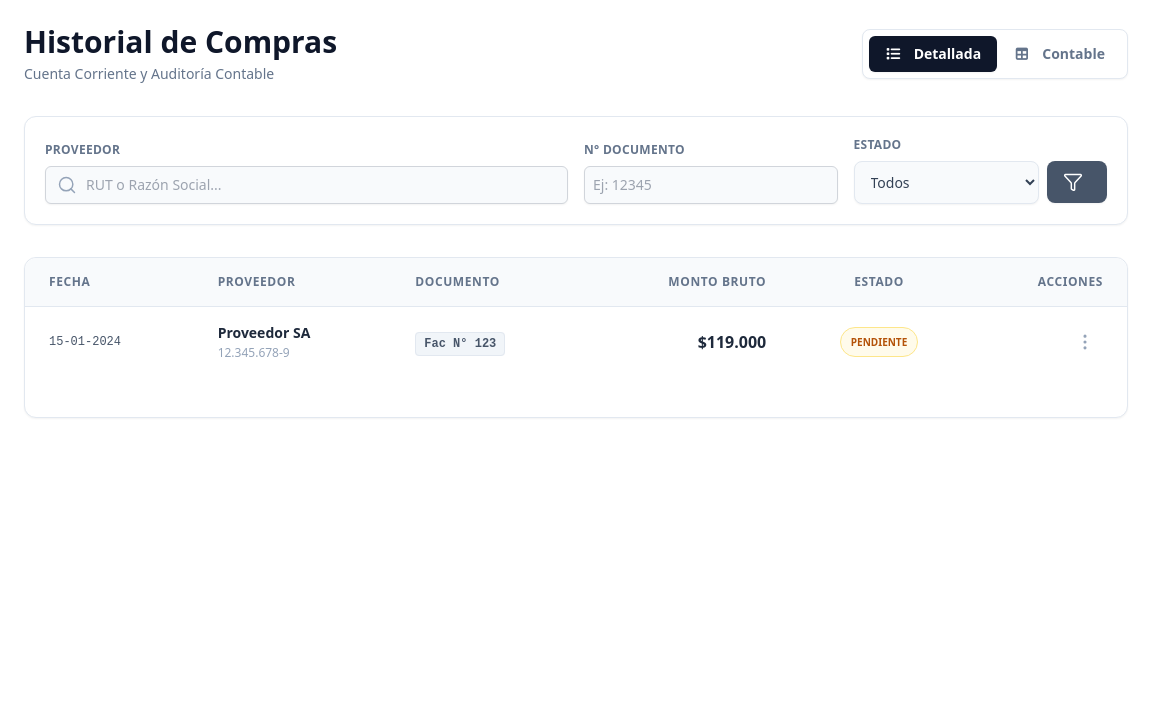
Scenario: HistorialFacturas (vista) › menú de opciones (3 puntos) › cierra el menú al volver a hacer click en el botón "Opciones"
What coordinates should you click on to do the following:
click the button titled "Opciones"
I would click on:
 (1085, 342)
Its box is x1=1067 y1=324 x2=1103 y2=360.
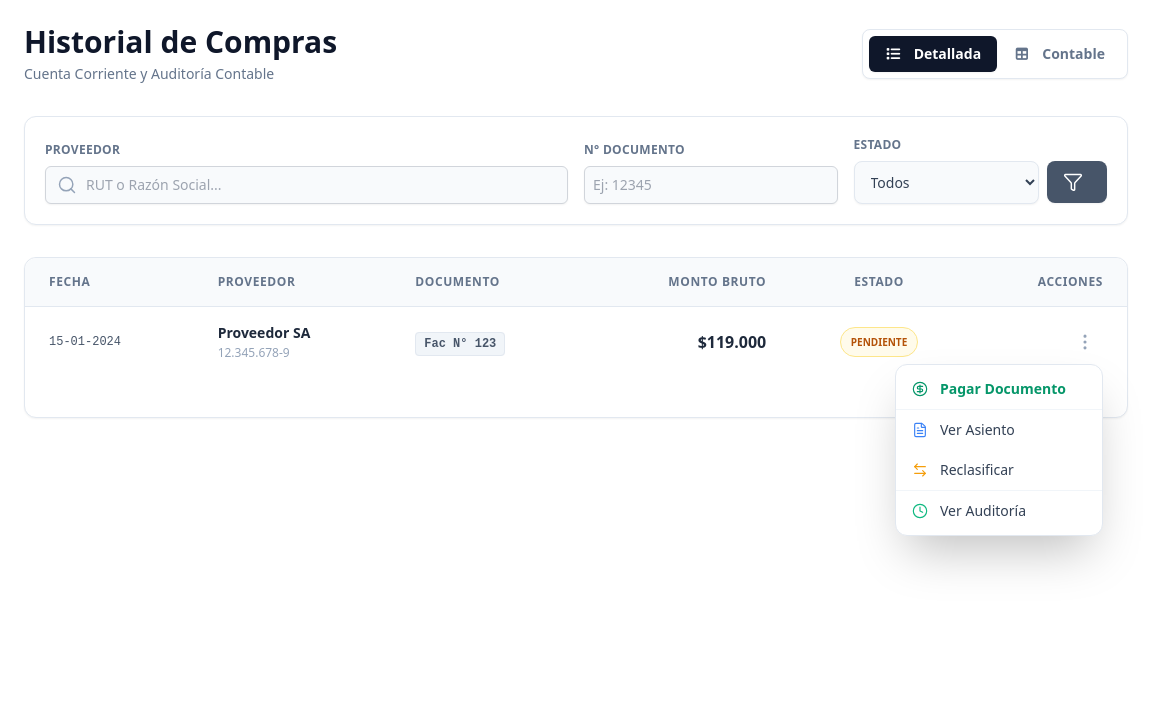
Now the button "Ver Asiento" is shown, box x1=896 y1=410 x2=1102 y2=450
What coordinates should you click on to do the following:
click the button titled "Opciones"
I would click on:
 (1085, 342)
Its box is x1=1067 y1=324 x2=1103 y2=360.
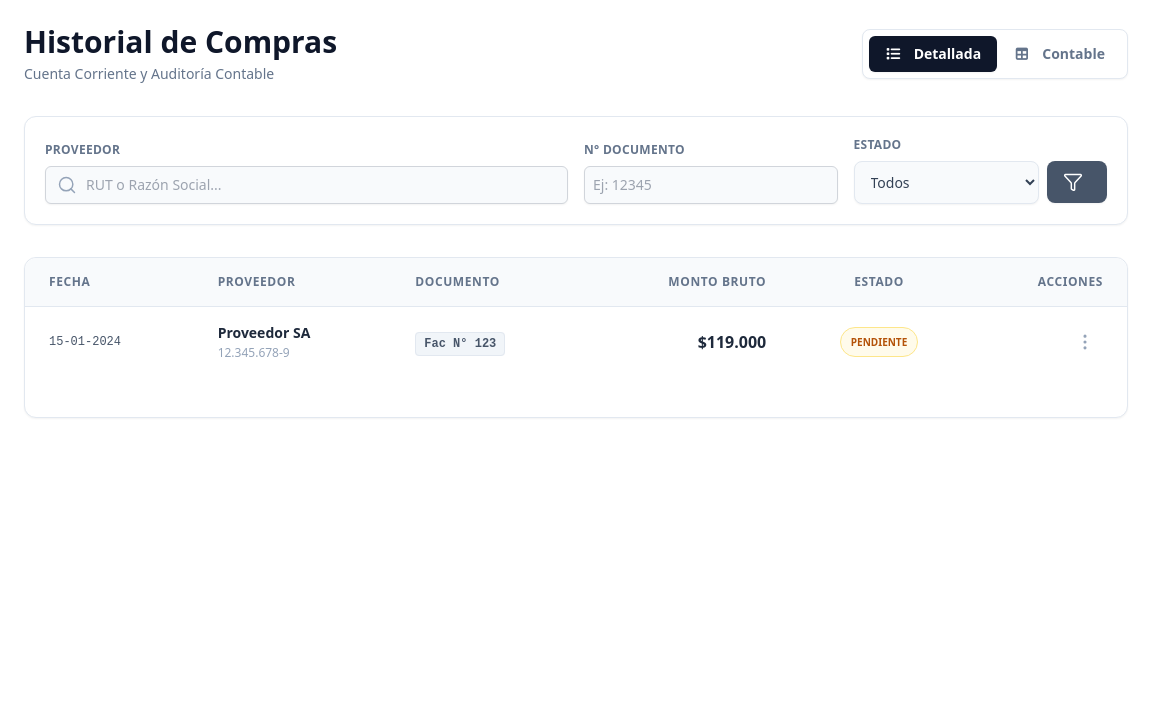
Now the button "Ver Asiento" is gone
